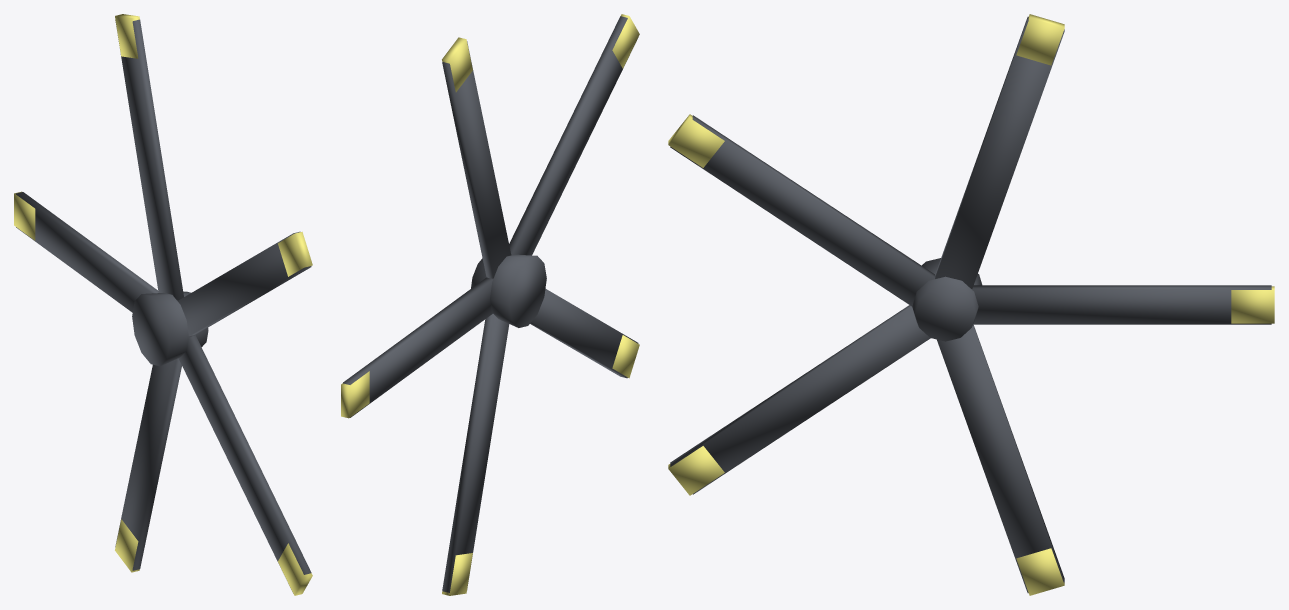
The model's file is SM_AT802F_Prop.fbx.
The picture shows the model from 3 angles, left to right: view 1: azimuth 30°, elevation 25°; view 2: azimuth 150°, elevation 25°; view 3: azimuth 270°, elevation 25°; orthographic projection. The views are drawn at different scales.
Visible parts, largest first — view 1: SM_AT802F_Prop; view 2: SM_AT802F_Prop; view 3: SM_AT802F_Prop.
Boxes of the visible parts, x1,y1,x2,y2 form: SM_AT802F_Prop: (14, 14, 312, 595); SM_AT802F_Prop: (341, 14, 639, 595); SM_AT802F_Prop: (668, 14, 1274, 595).
Bounding box in the file's own units: 0.24 × 2.8 × 2.94.
